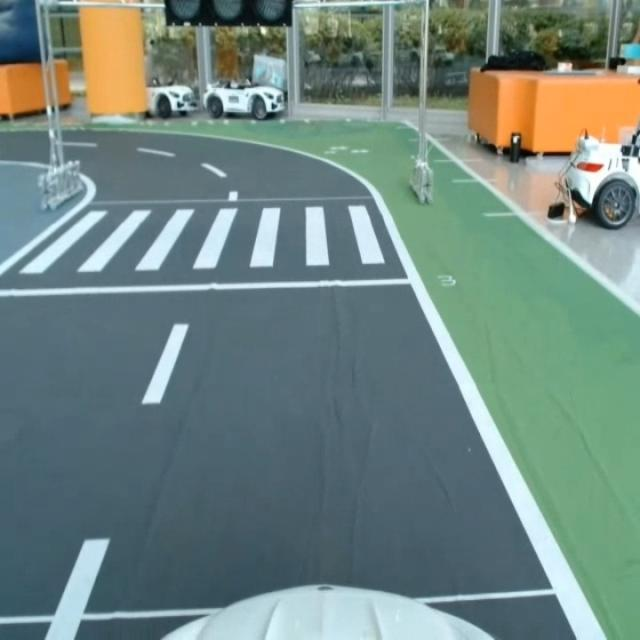traffic-light: (162, 0, 297, 31)
